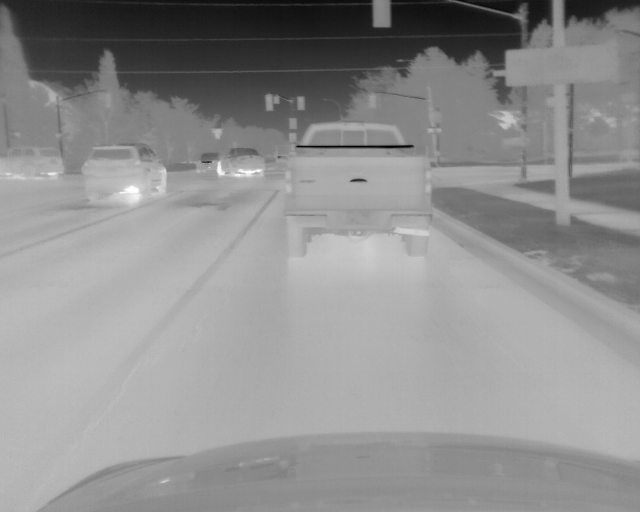car: (283, 117, 432, 259), (81, 142, 168, 204), (2, 145, 64, 181), (217, 146, 266, 178), (195, 150, 220, 173)
